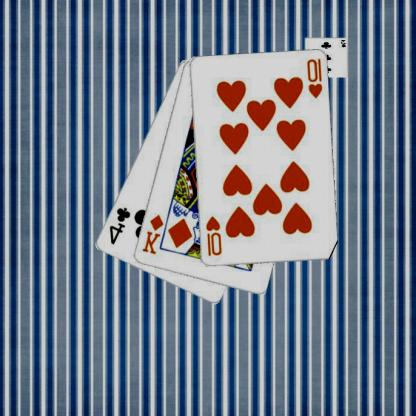10H: (204, 214, 224, 257), (306, 56, 325, 100)
4C: (108, 204, 133, 247)
KD: (141, 212, 166, 256)
